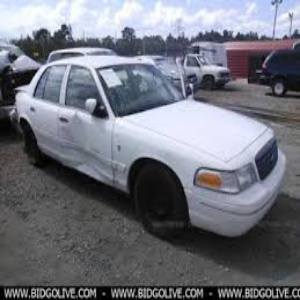door: (49, 112, 123, 186)
